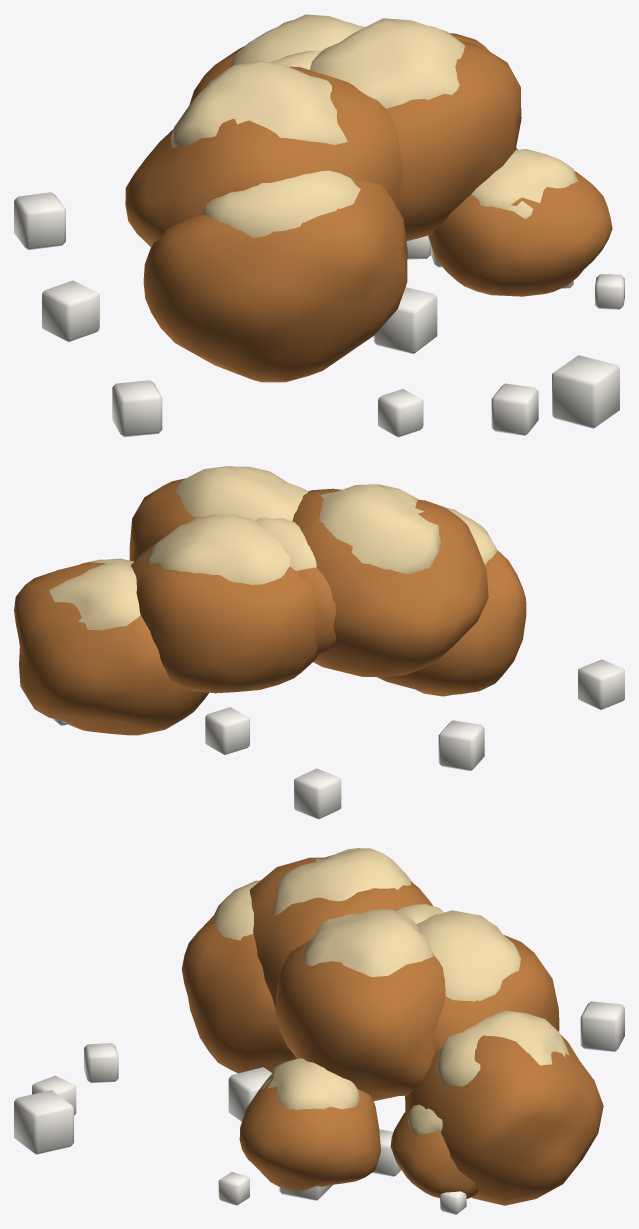
File: nest-crumbstore.glb
3 renders of one model, top to bottom at view 1: azimuth 30°, elevation 25°; view 2: azimuth 150°, elevation 25°; view 3: azimuth 270°, elevation 25°, orthographic. The views are drawn at different scales.
Parts seen in each view (by area): view 1: CrumbStore__Crust, CrumbStore__Crumb, CrumbStore__Sugar; view 2: CrumbStore__Crust, CrumbStore__Crumb, CrumbStore__Sugar; view 3: CrumbStore__Crust, CrumbStore__Crumb, CrumbStore__Sugar.
Boxes of the visible parts, x1,y1,x2,y2 form: CrumbStore__Crust: (125,33,612,382); CrumbStore__Crumb: (171,14,577,237); CrumbStore__Sugar: (14,192,624,437); CrumbStore__Crust: (14,478,526,735); CrumbStore__Crumb: (49,466,497,630); CrumbStore__Sugar: (52,659,624,819); CrumbStore__Crust: (181,857,603,1205); CrumbStore__Crumb: (214,848,569,1134); CrumbStore__Sugar: (14,1001,624,1214).
Bounding box in the file's own units: 13.06 × 6.24 × 14.11.
